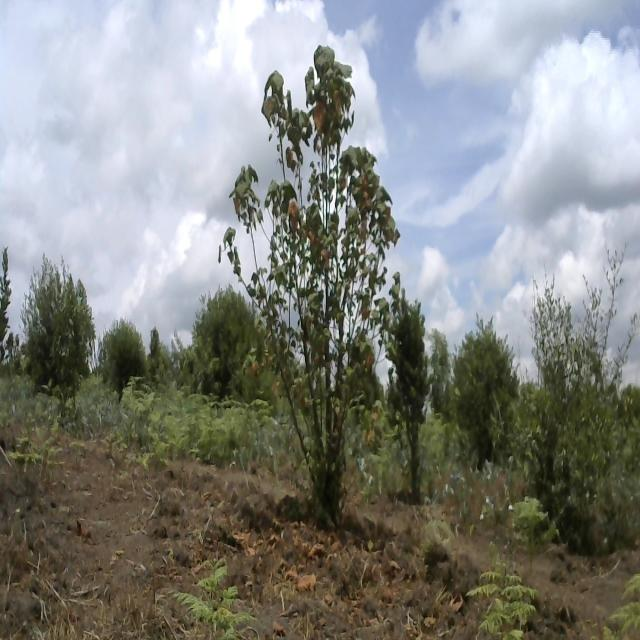Salix alba: (524, 249, 637, 542), (188, 291, 260, 386)
cedrus: (448, 311, 524, 475), (30, 250, 95, 420), (100, 309, 146, 393)
other: (225, 30, 393, 532)
